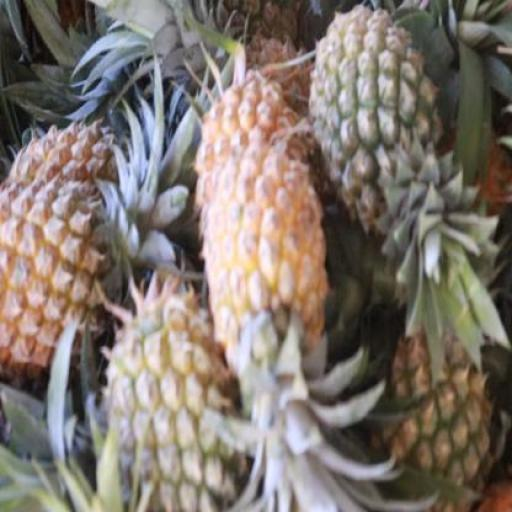------------------------------: (102, 292, 246, 510), (309, 10, 437, 208)
Pineapple - v8 v1: (204, 140, 317, 384), (4, 174, 106, 384)
